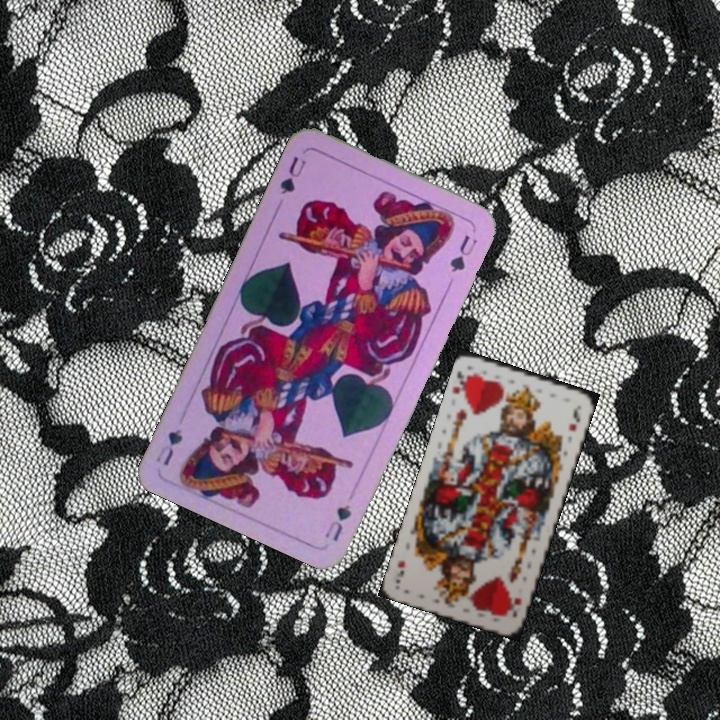GU: (276, 152, 309, 198), (320, 500, 354, 544)
HK: (448, 367, 474, 402), (502, 593, 524, 620)
